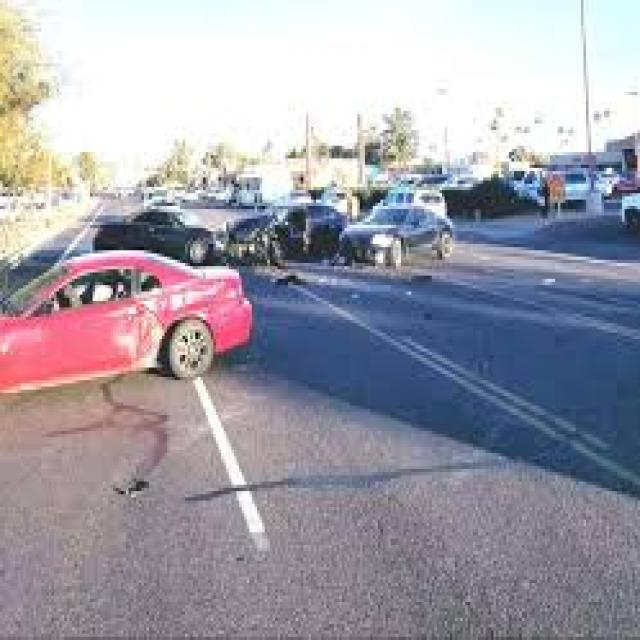accident: (110, 200, 352, 282)
